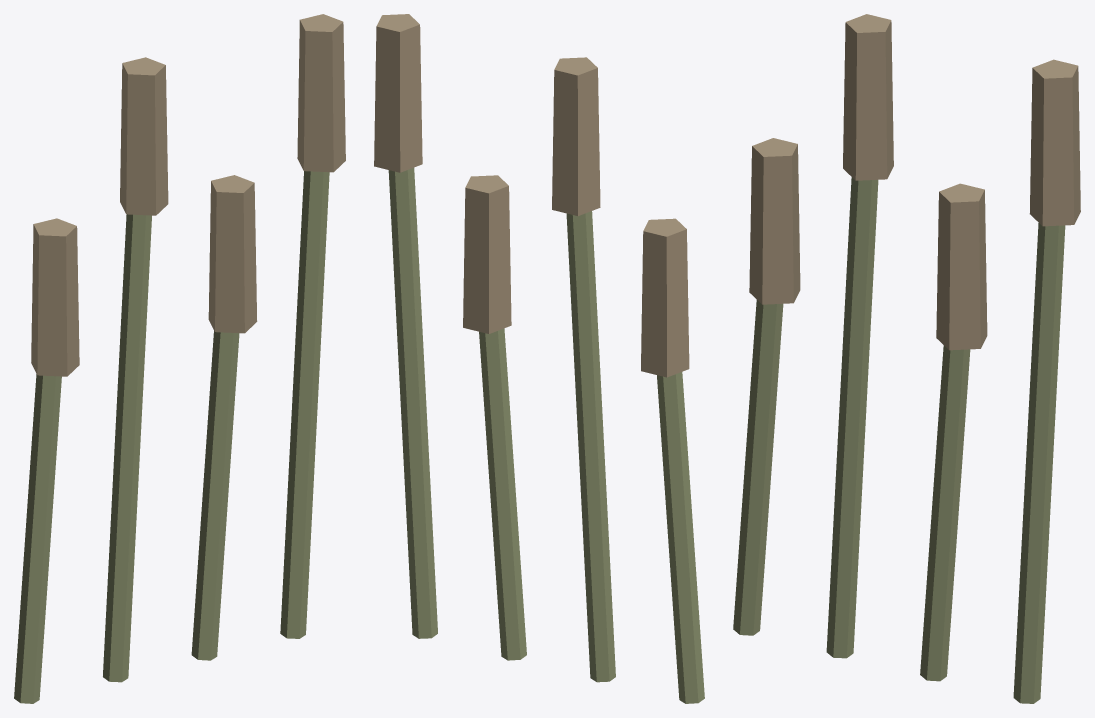
3 renders of one model, left to right at view 1: azimuth 30°, elevation 25°; view 2: azimuth 150°, elevation 25°; view 3: azimuth 330°, elevation 25°, orthographic. The views are drawn at different scales.
Visible parts, largest first — view 1: V12; view 2: V12; view 3: V12.
Part boxes in pixels (x1=…): V12: x1=14, y1=14, x2=345, y2=703; V12: x1=374, y1=14, x2=704, y2=703; V12: x1=733, y1=14, x2=1080, y2=703.
Bounding box in the file's own units: 0.2927 × 0.5206 × 0.0362.
